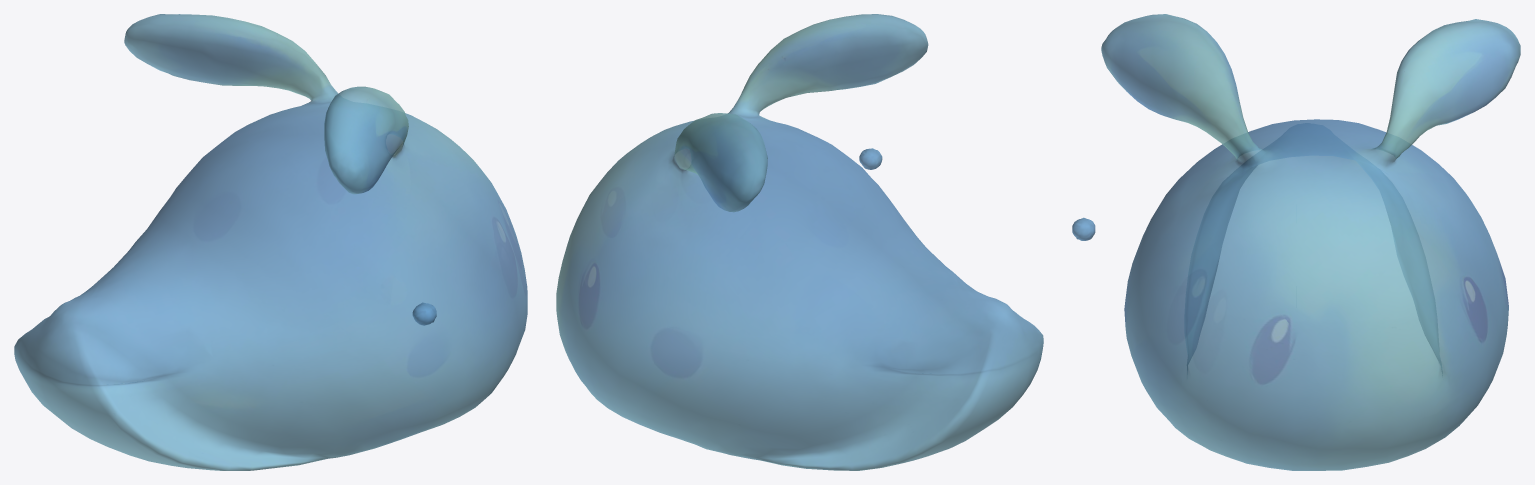
File: slime-ball.glb
3 views of the same model, side by side, from view 1: azimuth 30°, elevation 25°; view 2: azimuth 150°, elevation 25°; view 3: azimuth 270°, elevation 25° (orthographic). The views are drawn at different scales.
Parts seen in each view (by area): view 1: tripo_node_2db07cfc-f756-43cf-ad55-df824af44a8d; view 2: tripo_node_2db07cfc-f756-43cf-ad55-df824af44a8d; view 3: tripo_node_2db07cfc-f756-43cf-ad55-df824af44a8d.
Part boxes in pixels (bbox=[...]): tripo_node_2db07cfc-f756-43cf-ad55-df824af44a8d: bbox=[14, 14, 527, 470]; tripo_node_2db07cfc-f756-43cf-ad55-df824af44a8d: bbox=[556, 14, 1043, 470]; tripo_node_2db07cfc-f756-43cf-ad55-df824af44a8d: bbox=[1072, 14, 1520, 470].
Size of the model in its own units: 2.34 by 1.83 by 1.93.
Materials: 1 (1 with a texture image).
